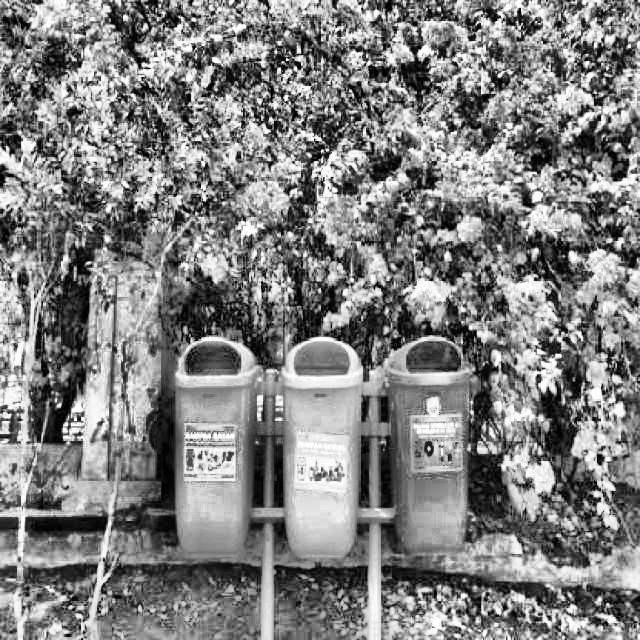Dustbin: (170, 329, 266, 568), (386, 328, 479, 566), (278, 336, 368, 576)
